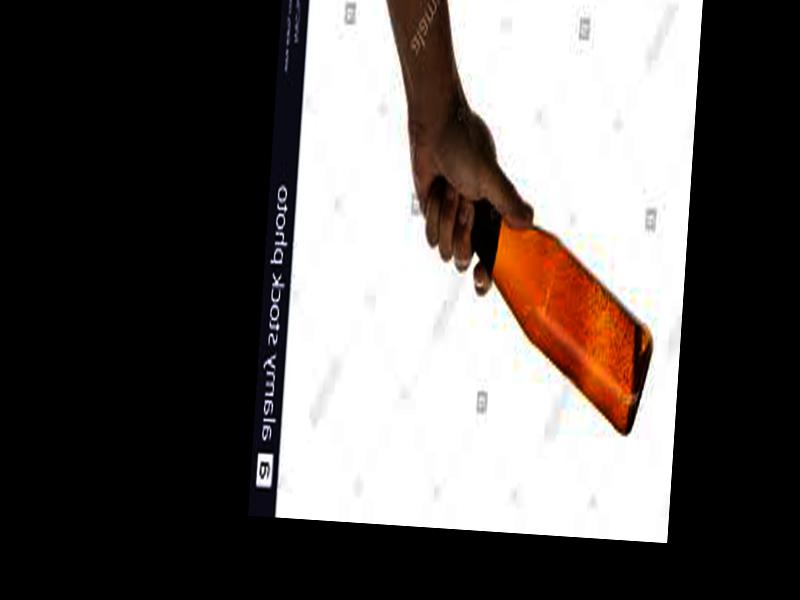Beer: (419, 181, 664, 436)
